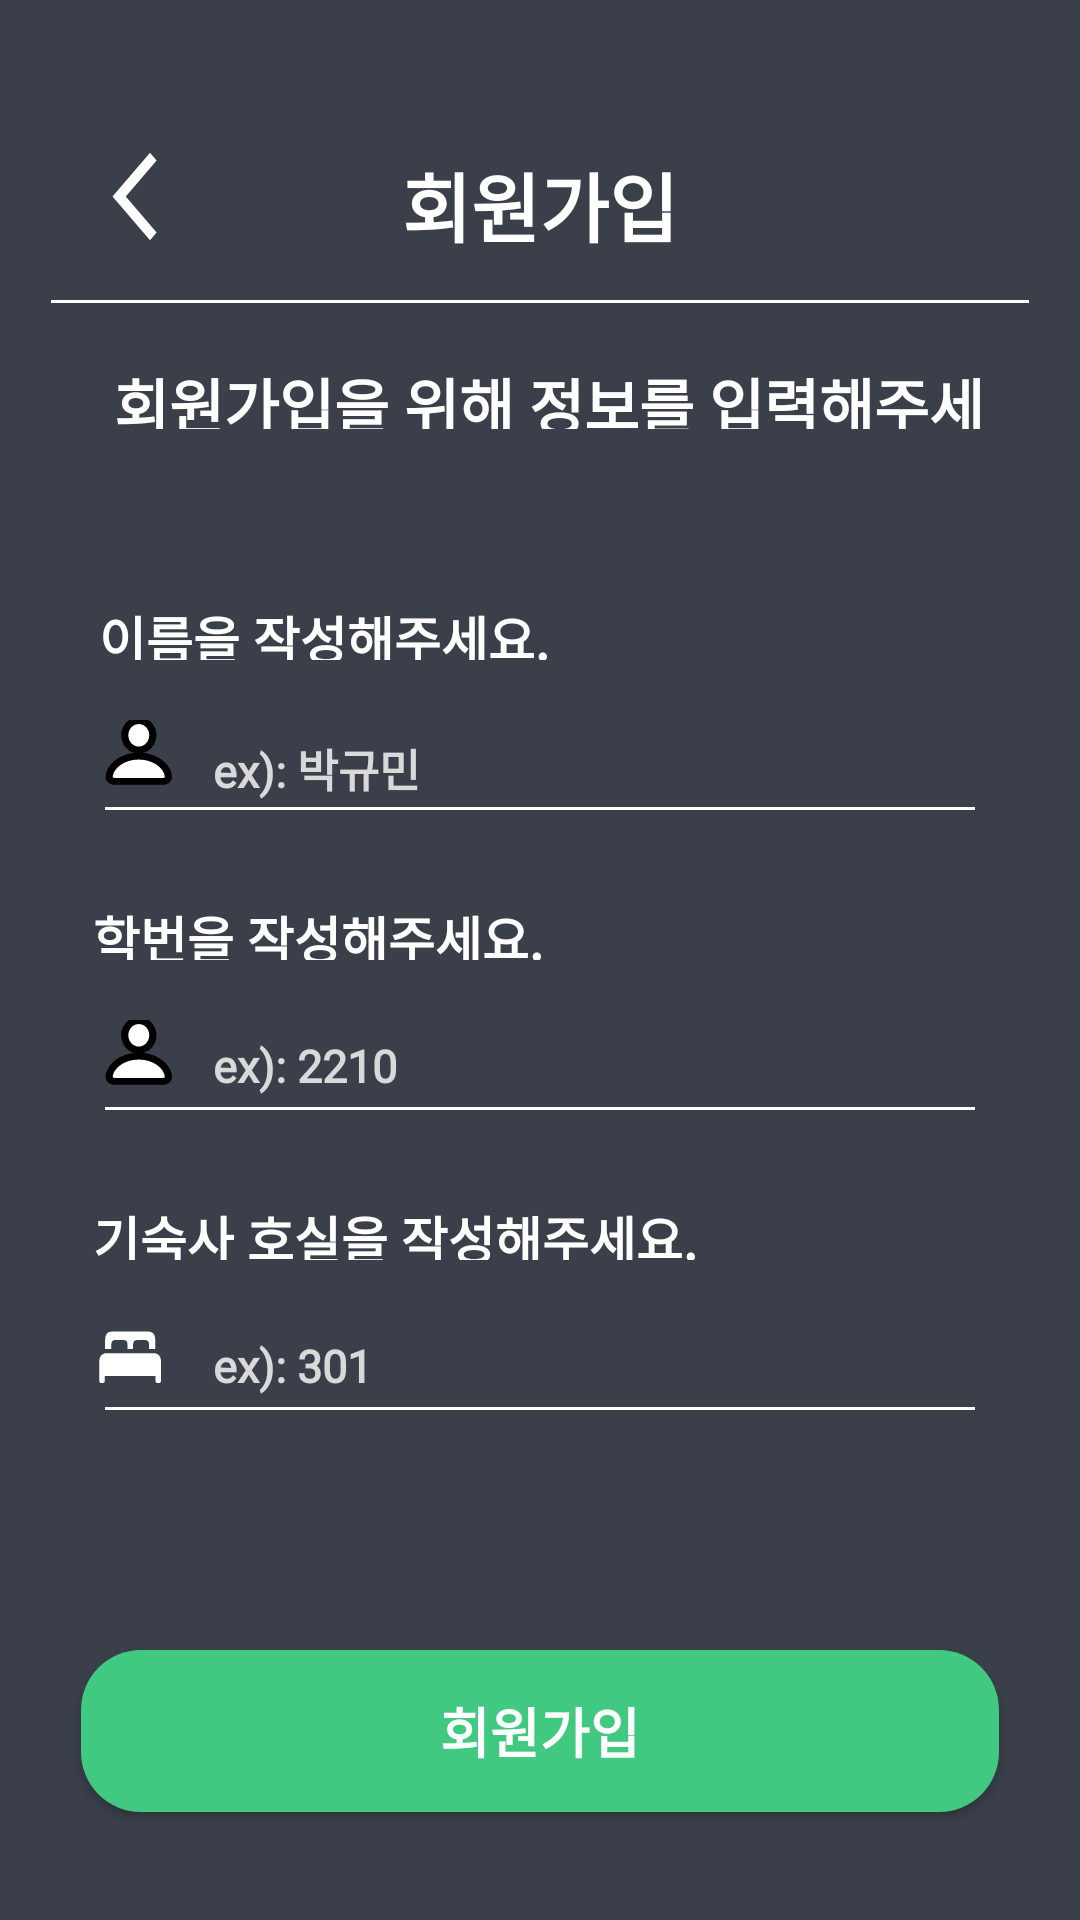

Icon click points for this 1080x1920 phone screenshot, format (x,y):
arrow back: (134,196)
profile: (138,752), (138,1052)
room: (130,1357)
